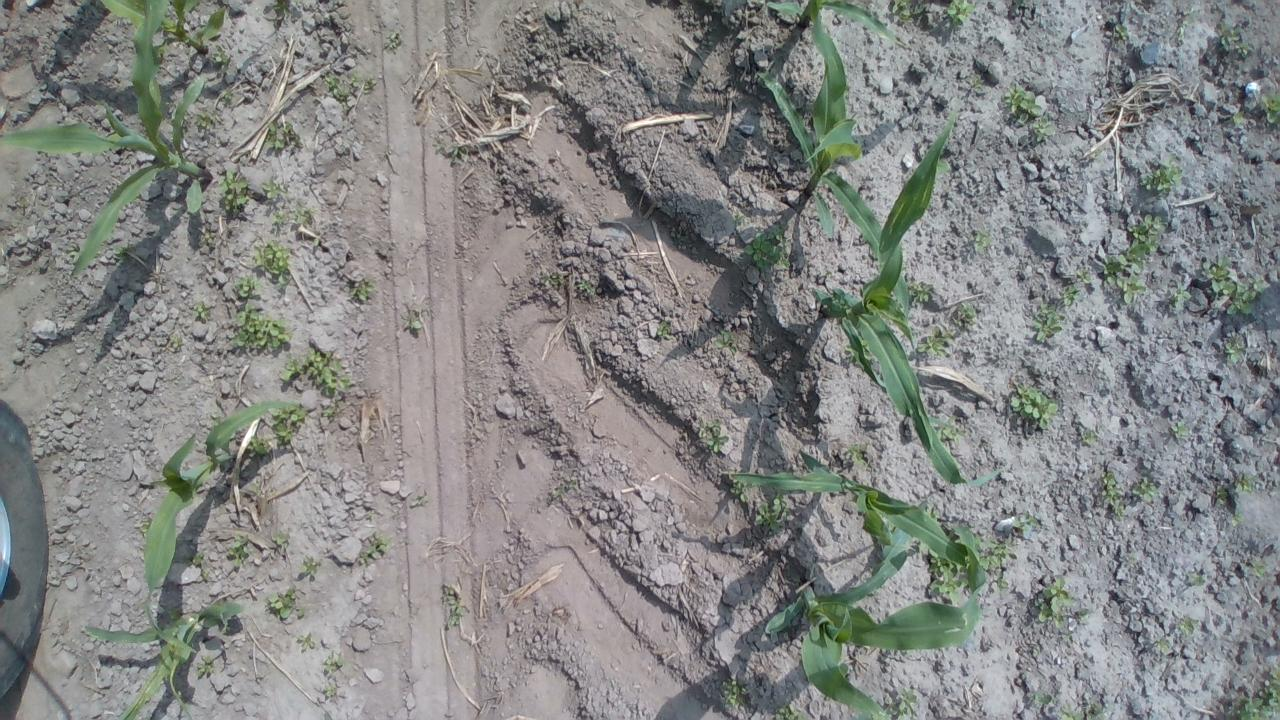Maize: (811, 110, 1004, 487), (0, 0, 213, 278), (764, 501, 986, 720), (735, 449, 983, 592), (141, 402, 292, 595), (760, 17, 864, 241), (86, 602, 242, 720), (99, 0, 225, 61), (766, 0, 898, 46)
Weeds: (1202, 254, 1266, 315), (279, 345, 353, 397), (1103, 214, 1165, 274), (227, 302, 293, 353), (1230, 663, 1280, 720), (928, 548, 970, 605), (1010, 382, 1058, 430), (744, 226, 792, 271), (1034, 574, 1070, 628), (252, 239, 292, 287), (1138, 152, 1182, 194), (754, 490, 792, 536), (268, 402, 306, 446), (1004, 83, 1044, 123), (218, 168, 251, 213), (264, 584, 304, 620), (1032, 303, 1066, 342), (1101, 471, 1127, 521), (916, 325, 954, 358), (1108, 273, 1146, 304), (977, 540, 1015, 570), (697, 417, 728, 453), (928, 415, 966, 444), (1220, 25, 1250, 56), (264, 121, 294, 150), (228, 532, 252, 568), (360, 534, 392, 560), (948, 0, 978, 26), (722, 676, 746, 708), (896, 686, 918, 720), (1058, 704, 1104, 720), (892, 0, 924, 23), (184, 550, 210, 578), (233, 274, 262, 299), (350, 71, 376, 97), (1031, 116, 1056, 143), (446, 588, 464, 625), (324, 74, 351, 98), (1261, 92, 1280, 126), (351, 280, 376, 304), (1134, 478, 1158, 502), (714, 329, 738, 353), (322, 654, 349, 674), (908, 282, 932, 304), (730, 478, 750, 504), (1014, 512, 1040, 532), (774, 704, 806, 720), (958, 301, 978, 326), (828, 290, 851, 311), (211, 44, 231, 68), (247, 436, 269, 457), (112, 243, 133, 265), (191, 111, 215, 130), (1225, 339, 1242, 365), (195, 655, 218, 674), (298, 558, 321, 577), (847, 442, 866, 464), (1063, 282, 1080, 306), (553, 479, 577, 496), (260, 178, 278, 200), (297, 633, 317, 652), (974, 230, 991, 252), (1174, 281, 1190, 304), (136, 516, 152, 538), (844, 344, 860, 366), (1236, 474, 1254, 492), (292, 206, 310, 224), (451, 143, 469, 161), (1029, 691, 1053, 704), (66, 242, 80, 264), (1250, 560, 1268, 576), (936, 158, 952, 176), (193, 302, 209, 320), (270, 210, 288, 226), (384, 32, 400, 50), (1176, 620, 1194, 635), (272, 0, 290, 15), (578, 279, 596, 294), (1076, 269, 1092, 285), (323, 682, 337, 700), (1082, 430, 1098, 445), (168, 334, 184, 349), (247, 481, 263, 496), (1172, 421, 1186, 438), (1116, 23, 1130, 40), (657, 320, 670, 338), (272, 533, 288, 547), (996, 575, 1009, 592), (969, 74, 982, 91), (404, 318, 422, 330), (914, 536, 929, 550), (1231, 512, 1244, 528), (880, 313, 896, 326), (541, 274, 559, 285), (886, 703, 898, 719), (1154, 639, 1170, 651), (1175, 20, 1187, 36), (854, 710, 872, 720), (1216, 488, 1227, 504), (1232, 112, 1246, 124), (1192, 574, 1204, 586), (201, 231, 213, 243), (734, 209, 744, 222), (322, 406, 333, 417), (1078, 608, 1087, 620), (224, 88, 232, 100), (103, 362, 113, 369), (825, 270, 833, 278), (1128, 552, 1136, 560)
